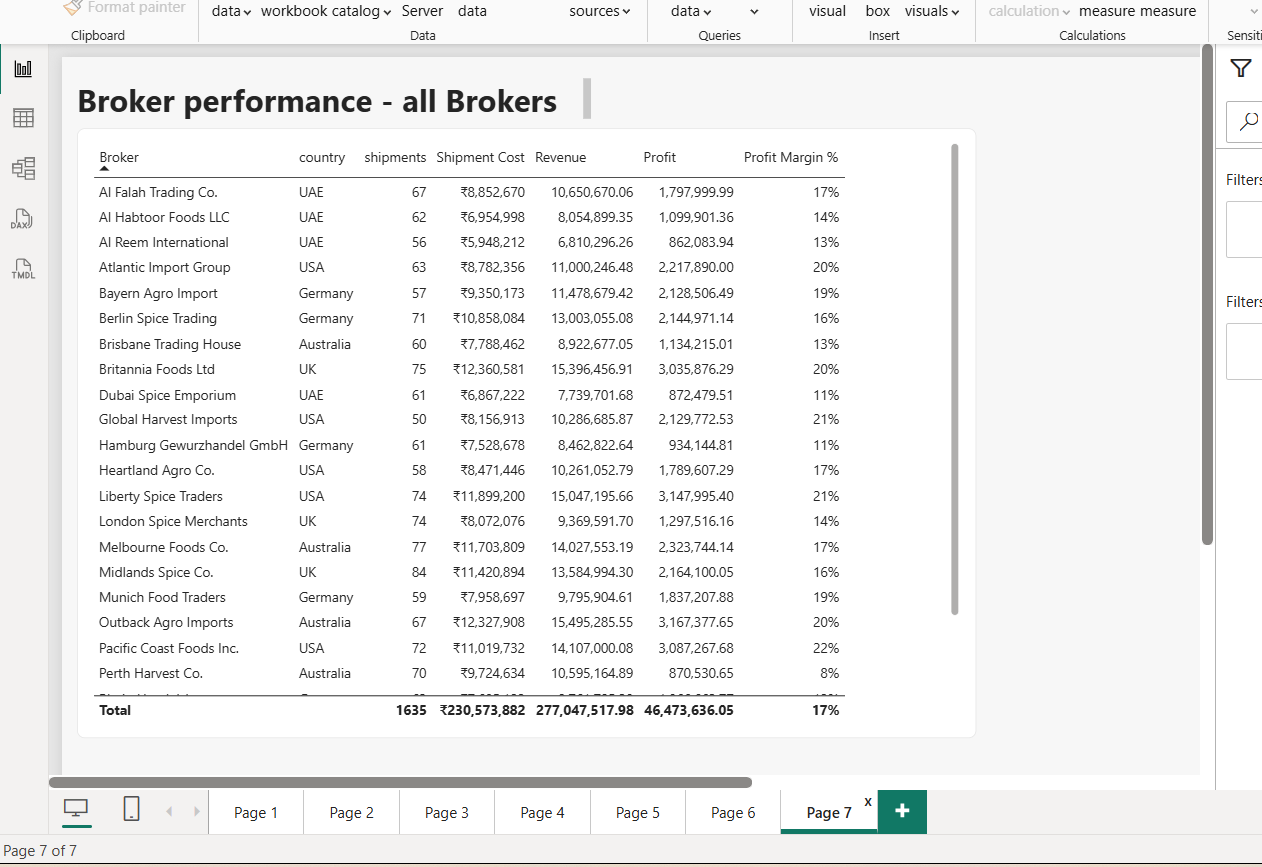

This screenshot's page, from the dashboard's own definition file:
{"tool":"powerbi","page":{"name":"Page 7","canvas":[1920,1080],"ordinal":6},"visuals":[{"type":"tableEx","fields":{"Values":["Dim_Broker.broker_name","Dim_Country.country","Fact_Shipments.shipment_id","Fact_Shipments.Shipment Cost","Fact_Shipments.Revenue","Fact_Shipments.Profit","Fact_Shipments.Profit Margin %"]},"box":[0,227.2,922.2,625.9],"z":0},{"type":"textbox","box":[14.8,22.2,527.2,50.6],"z":1000}]}

Visuals, with their boxes on the page's 1920x1080 design canvas (x1, y1, x2, y2). These are canvas units, not pixel positions in the 1262x867 screenshot, which may show the page scaled, cropped or inside an application window:
tableEx - Dim_Broker.broker_name x Dim_Country.country: [x1=0, y1=227, x2=922, y2=853]
textbox: [x1=15, y1=22, x2=542, y2=73]
